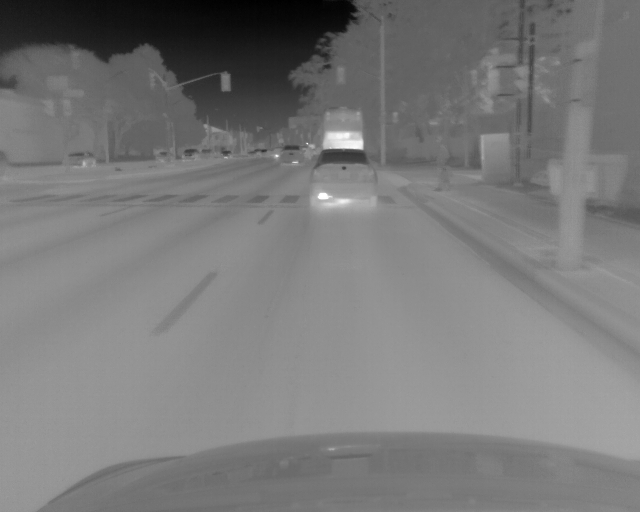car: (309, 148, 377, 210), (320, 105, 364, 151), (64, 152, 96, 169), (279, 144, 303, 166), (182, 148, 200, 163), (154, 151, 169, 163), (302, 145, 313, 161), (200, 147, 213, 159), (219, 150, 233, 160), (258, 148, 269, 157)
people: (432, 136, 456, 194)
